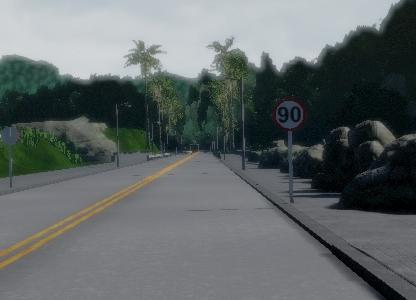Speed_90: (272, 97, 308, 132)
